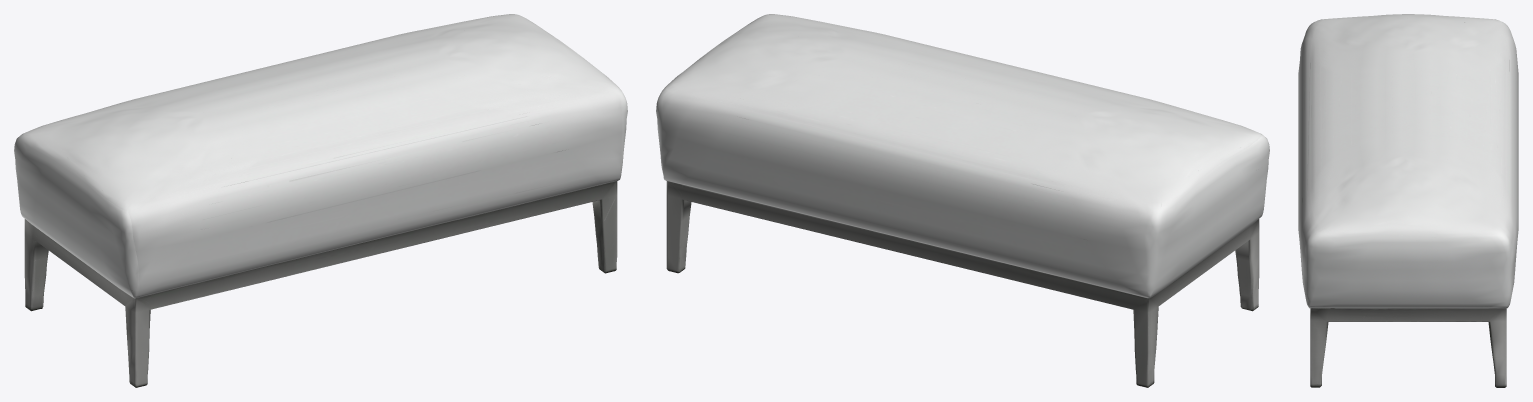
File: Bench_White_Sits_2_0403043107_texture.glb
The picture shows the model from 3 angles, left to right: view 1: azimuth 30°, elevation 25°; view 2: azimuth 150°, elevation 25°; view 3: azimuth 270°, elevation 25°; orthographic projection. The views are drawn at different scales.
Parts seen in each view (by area): view 1: Mesh_0.002; view 2: Mesh_0.002; view 3: Mesh_0.002.
Part boxes in pixels (x1,y1,x2,y2): Mesh_0.002: [14, 14, 627, 387]; Mesh_0.002: [656, 14, 1269, 387]; Mesh_0.002: [1298, 14, 1518, 387].
Size of the model in its own units: 1.2 by 0.4572 by 0.5066.
1 material, 1 textured.
